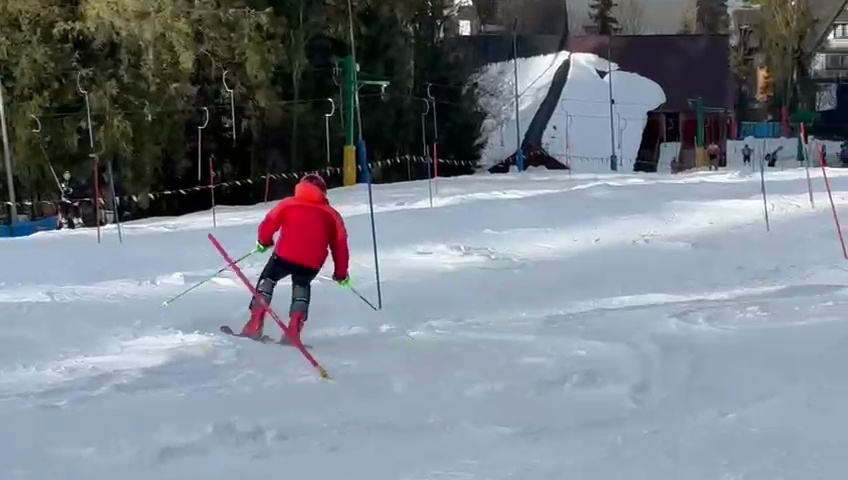gate: (510, 55, 578, 183), (813, 141, 848, 268), (365, 182, 386, 311), (88, 156, 111, 245), (427, 100, 446, 207), (752, 146, 775, 230), (795, 129, 816, 209), (109, 156, 125, 246), (426, 141, 443, 207), (208, 152, 222, 229)
